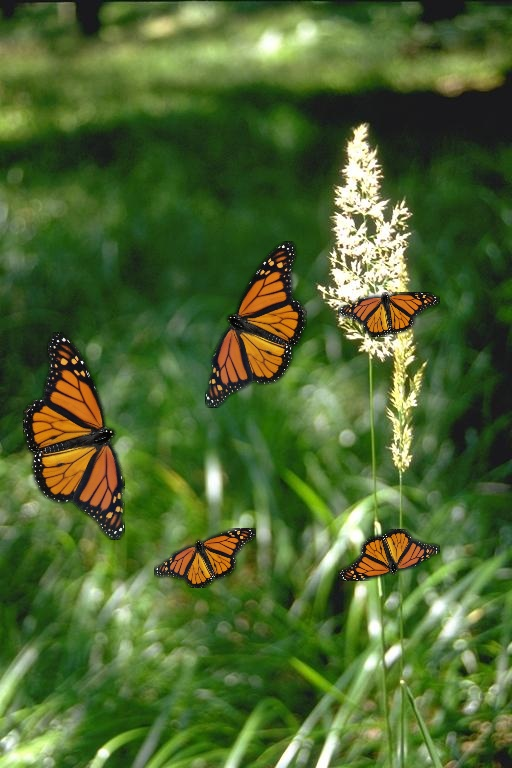danaus_plexippus: (23, 332, 125, 540), (205, 241, 307, 408), (154, 528, 256, 588), (338, 529, 440, 581), (338, 292, 440, 337)
